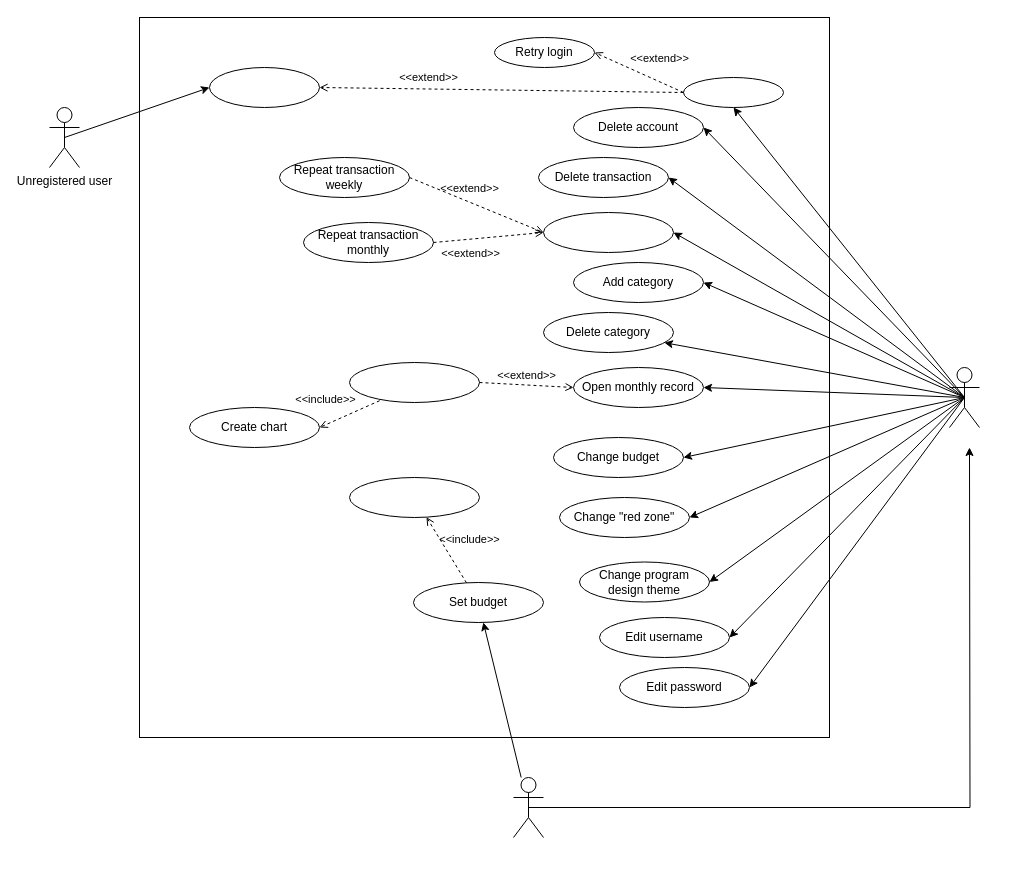
This 1015x876 diagram has some shape labels left out. Each missing label, with the centre of its shape:
Add transaction: the point at 608,232
Current user: the point at 964,397
Log in: the point at 733,92
New user: the point at 528,807
Register: the point at 264,87
Set "red zone": the point at 414,497
View chart: the point at 414,382
